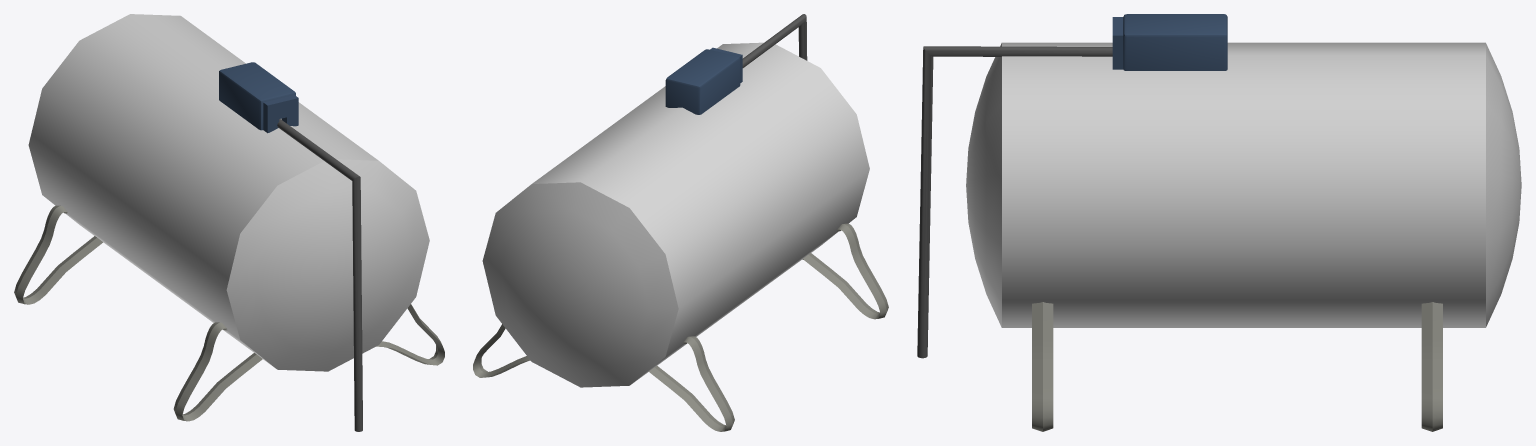
File: gasl_tank_01.fbx
The picture shows the model from 3 angles, left to right: view 1: azimuth 30°, elevation 25°; view 2: azimuth 150°, elevation 25°; view 3: azimuth 270°, elevation 25°; orthographic projection. The views are drawn at different scales.
Parts seen in each view (by area): view 1: gasl_tank_01; view 2: gasl_tank_01; view 3: gasl_tank_01.
Boxes of the visible parts, box(x1,y1,x2,y2) form: gasl_tank_01: box(14, 14, 444, 431); gasl_tank_01: box(473, 14, 888, 431); gasl_tank_01: box(917, 14, 1521, 431).
Bounding box in the file's own units: 345 × 338 × 552.
